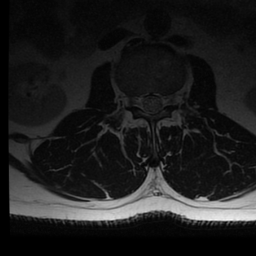CCS_normal: (147, 84, 156, 122)
LFS_normal: (165, 83, 173, 112)
LLS_normal: (156, 82, 165, 118)
RFS_normal: (129, 85, 138, 115)
RLS_normal: (138, 84, 147, 119)
